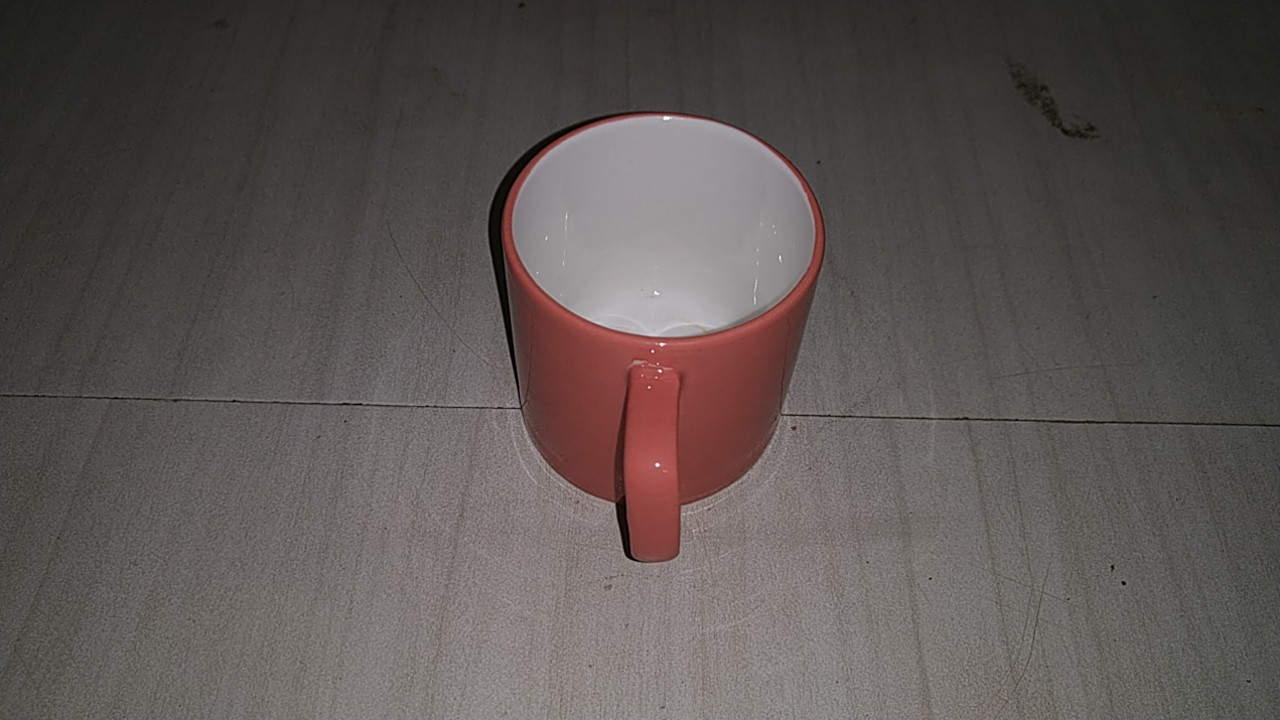cup: (469, 101, 854, 574)
